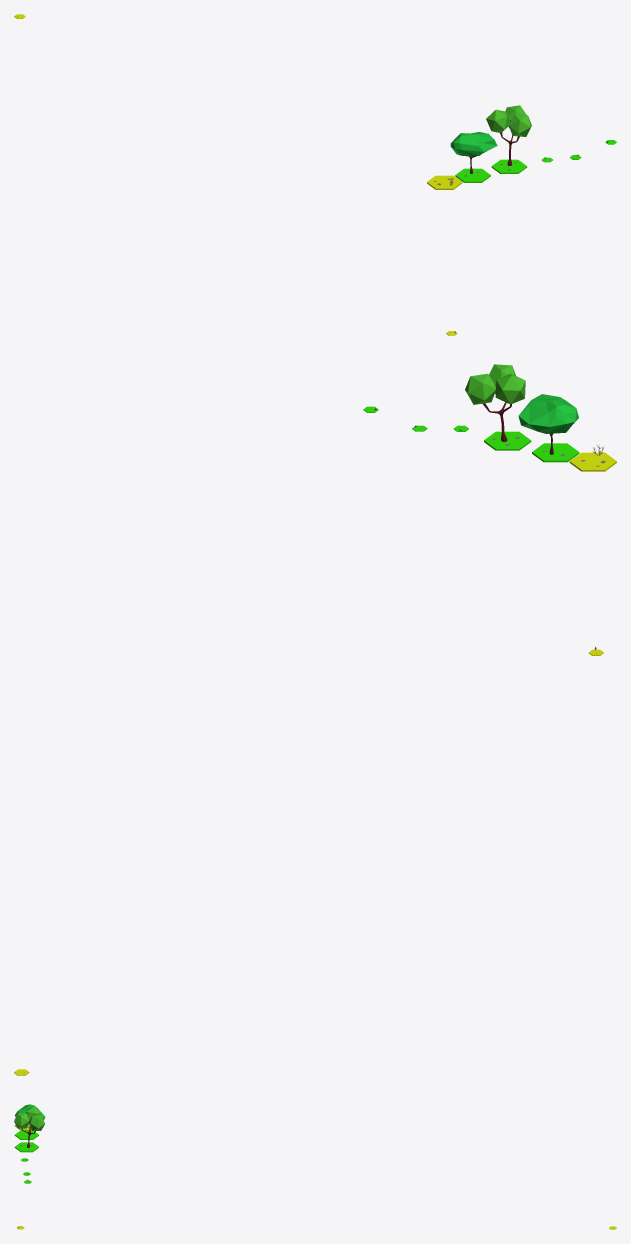
3 views of the same model, one above another, from view 1: azimuth 30°, elevation 25°; view 2: azimuth 150°, elevation 25°; view 3: azimuth 270°, elevation 25° (orthographic). The views are drawn at different scales.
Parts seen in each view (by area): view 1: Icosphere.008; view 2: Icosphere.008; view 3: Icosphere.002, Icosphere.003, Cylinder.009.
Boxes of the visible parts, <box> form: Icosphere.008: <box>450,132,497,156</box>; Icosphere.008: <box>518,394,578,433</box>; Icosphere.002: <box>28,1115,44,1130</box>; Icosphere.003: <box>14,1113,29,1128</box>; Cylinder.009: <box>14,1142,38,1152</box>.
Bounding box in the file's own units: 19.83 × 20.88 × 81.81.
